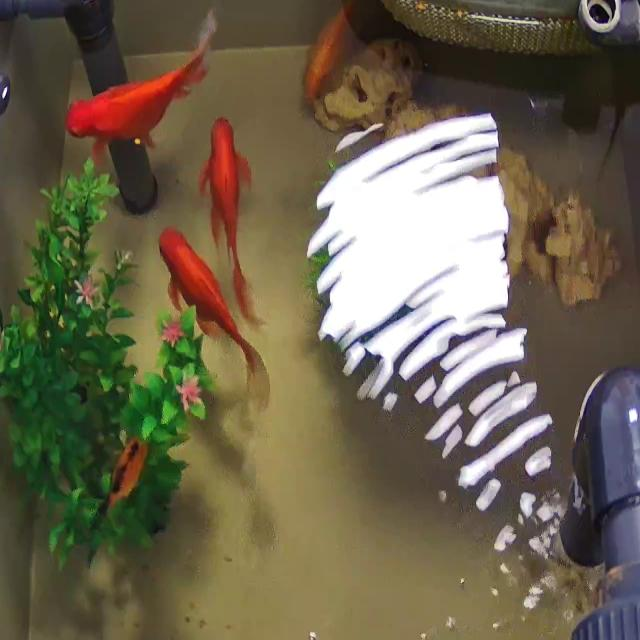fish: (65, 9, 220, 178), (149, 223, 273, 405), (194, 109, 268, 326), (90, 427, 159, 534)
